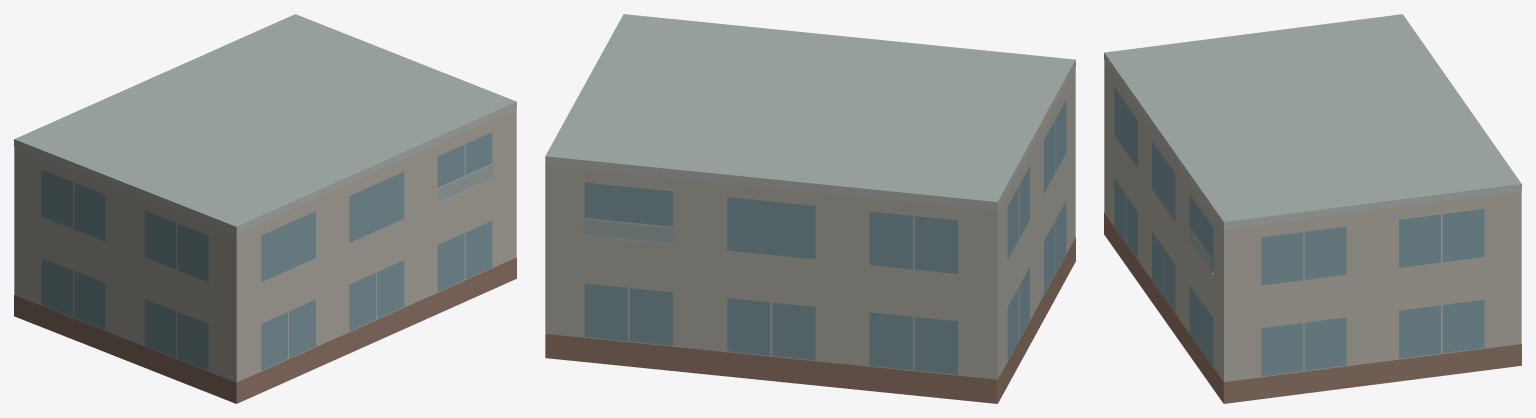
The model's file is survey-upis-32698051.glb.
3 renders of one model, left to right at view 1: azimuth 30°, elevation 25°; view 2: azimuth 150°, elevation 25°; view 3: azimuth 270°, elevation 25°, orthographic. The views are drawn at different scales.
Parts seen in each view (by area): view 1: survey-upis-32698051.tmp; view 2: survey-upis-32698051.tmp; view 3: survey-upis-32698051.tmp.
Boxes of the visible parts, x1=… form: survey-upis-32698051.tmp: x1=14, y1=14, x2=516, y2=403; survey-upis-32698051.tmp: x1=545, y1=14, x2=1075, y2=403; survey-upis-32698051.tmp: x1=1104, y1=14, x2=1521, y2=403.
Size of the model in its own units: 14.99 by 6.1 by 12.72.
